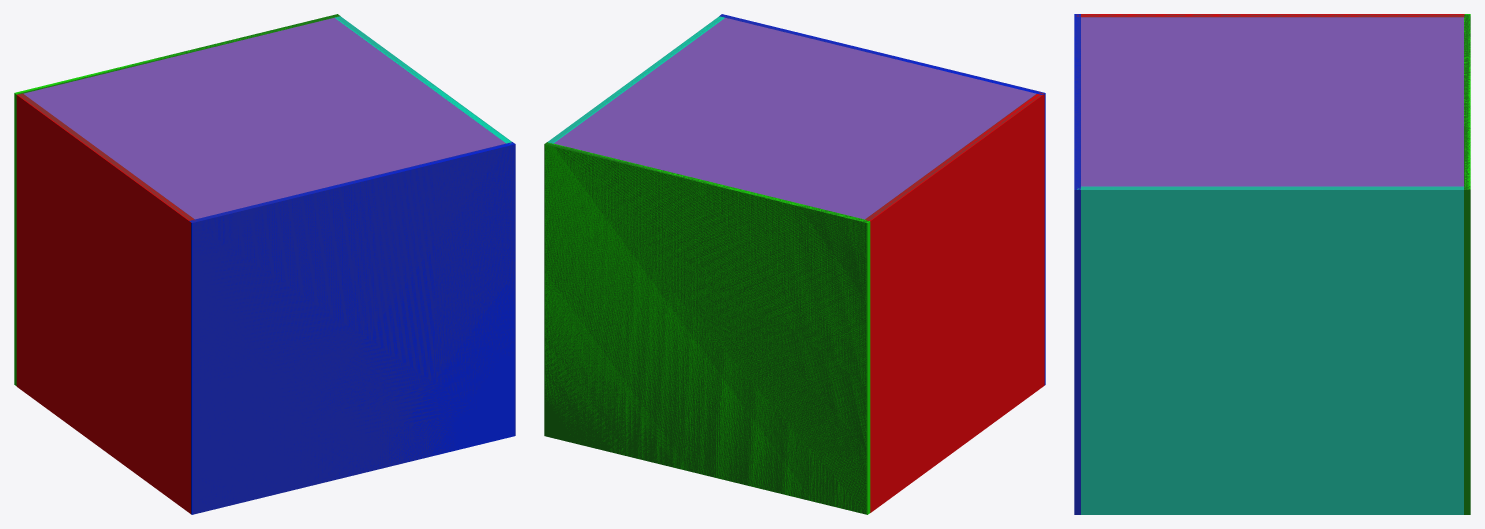
3 views of the same model, side by side, from view 1: azimuth 30°, elevation 25°; view 2: azimuth 150°, elevation 25°; view 3: azimuth 270°, elevation 25° (orthographic). The views are drawn at different scales.
Visible parts, largest first — view 1: pCube1, pCube6, pCube11, pCube10, pCube8, pCube12, pCube4, pCube2, pCube3, pCube7; view 2: pCube2, pCube12, pCube11, pCube6, pCube8, pCube10, pCube3, pCube4, pCube1, pCube7; view 3: pCube3, pCube6, pCube8, pCube1, pCube2, pCube4, pCube11, pCube12.
Boxes of the visible parts, box(x1,y1,x2,y2) form: pCube1: box(190, 142, 515, 514); pCube6: box(23, 18, 505, 219); pCube11: box(16, 94, 194, 513); pCube10: box(189, 143, 514, 514); pCube8: box(79, 18, 500, 218); pCube12: box(14, 16, 337, 385); pCube4: box(18, 93, 196, 220); pCube2: box(17, 14, 340, 94); pCube3: box(335, 16, 511, 142); pCube7: box(335, 17, 511, 143); pCube2: box(544, 142, 868, 514); pCube12: box(545, 142, 870, 514); pCube11: box(867, 92, 1044, 512); pCube6: box(554, 18, 1021, 219); pCube8: box(647, 18, 1036, 124); pCube10: box(723, 14, 1045, 385); pCube3: box(547, 16, 723, 143); pCube4: box(865, 93, 1043, 220); pCube1: box(719, 14, 1044, 93); pCube7: box(552, 16, 724, 143); pCube3: box(1077, 187, 1463, 514); pCube6: box(1081, 17, 1463, 186); pCube8: box(1081, 17, 1463, 186); pCube1: box(1074, 14, 1080, 514); pCube2: box(1464, 14, 1470, 514); pCube4: box(1077, 14, 1464, 17); pCube11: box(1077, 14, 1464, 16); pCube12: box(1464, 14, 1470, 189).
Size of what is drawn, in the model's own units: 0.0663 by 0.0573 by 0.0631.
